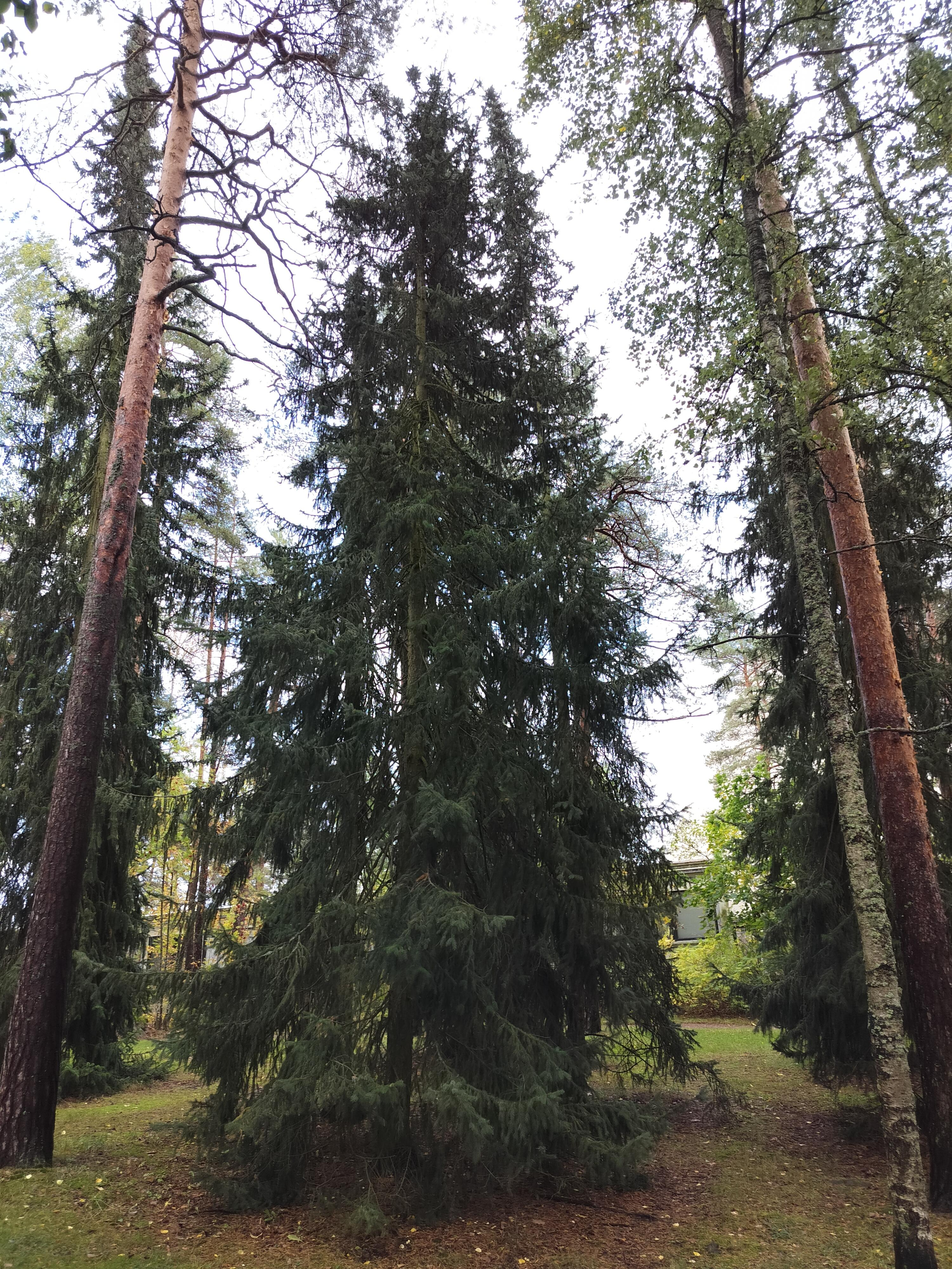Spruce: (203, 86, 685, 1217)
